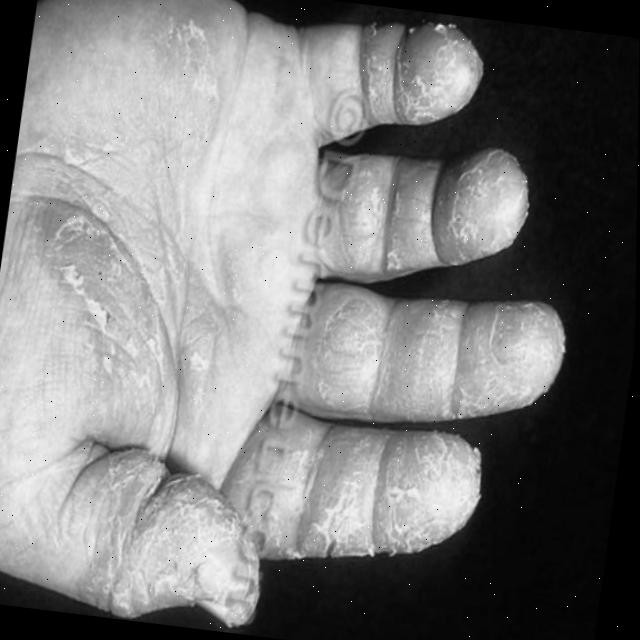Eczema: (0, 3, 563, 640)
